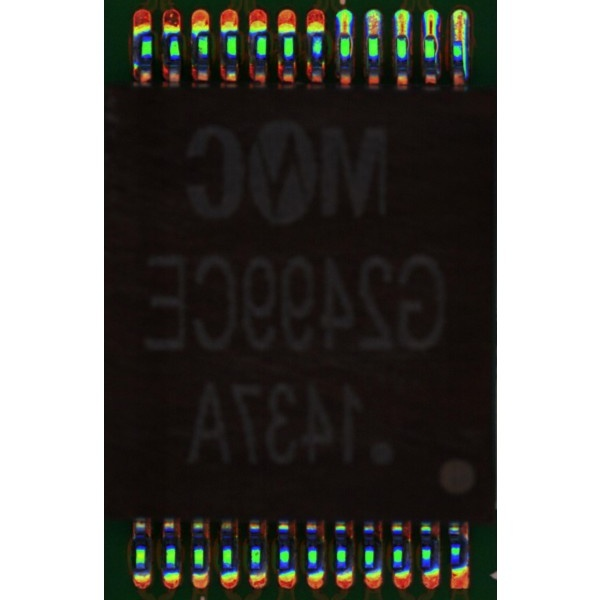Bad_podu: (368, 26, 378, 42), (397, 25, 406, 42), (425, 27, 434, 44), (454, 32, 463, 49), (340, 26, 349, 42)
Bad_qiaojiao: (464, 39, 469, 78), (435, 41, 440, 72)
